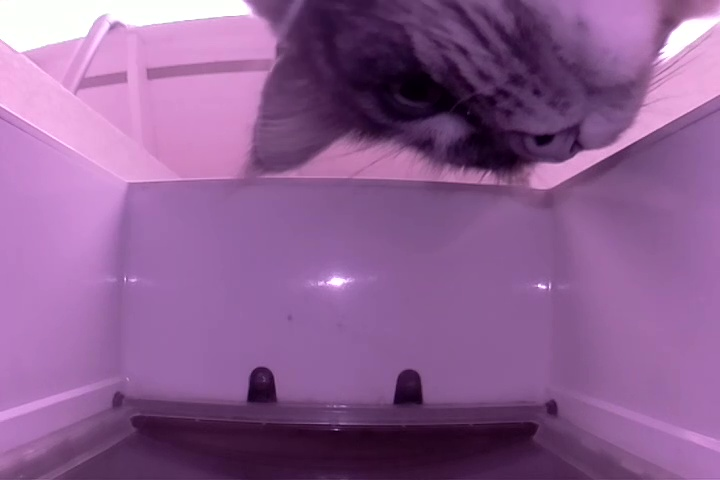Snout: (506, 4, 663, 165)
